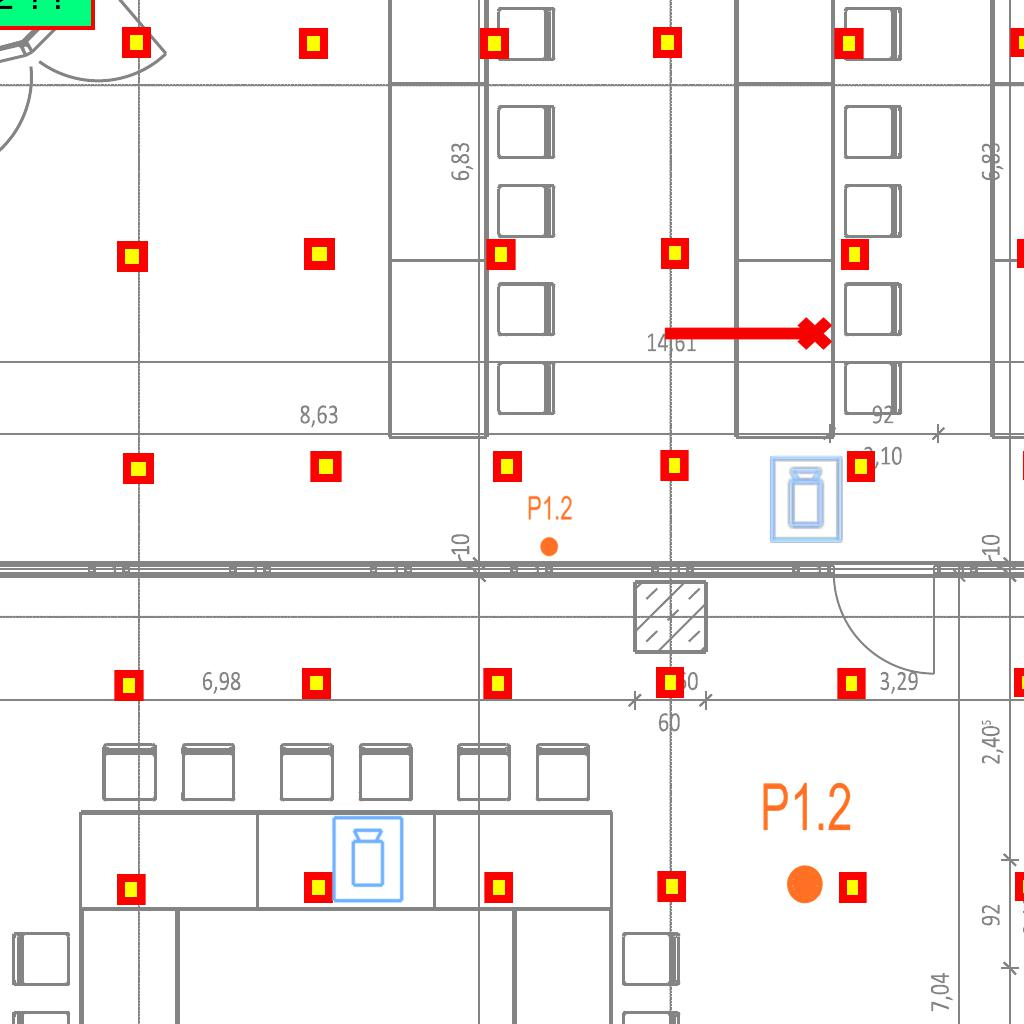ASR_Ansaugoeffnung: (659, 313, 835, 359)
Downlight_LED_Einbauleuchten_Flur: (760, 779, 853, 907), (527, 494, 573, 558)
KFO_Kamera_mit_Festobjektiv: (768, 454, 845, 545), (330, 814, 407, 905)
